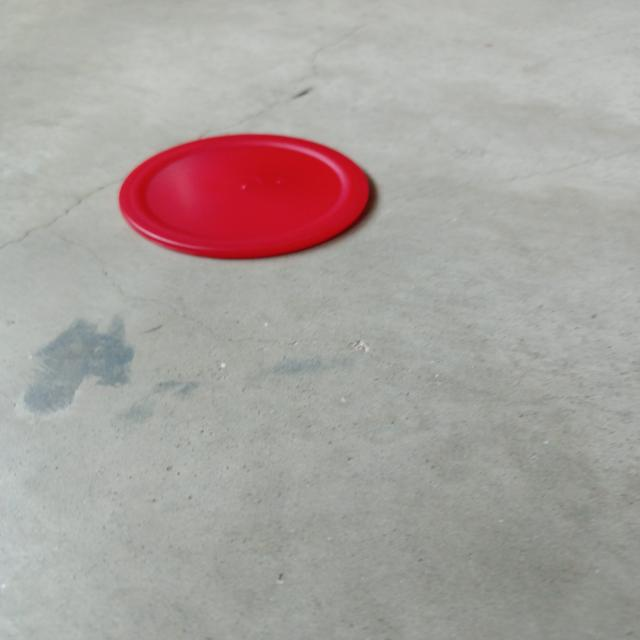chip: (116, 132, 372, 261)
